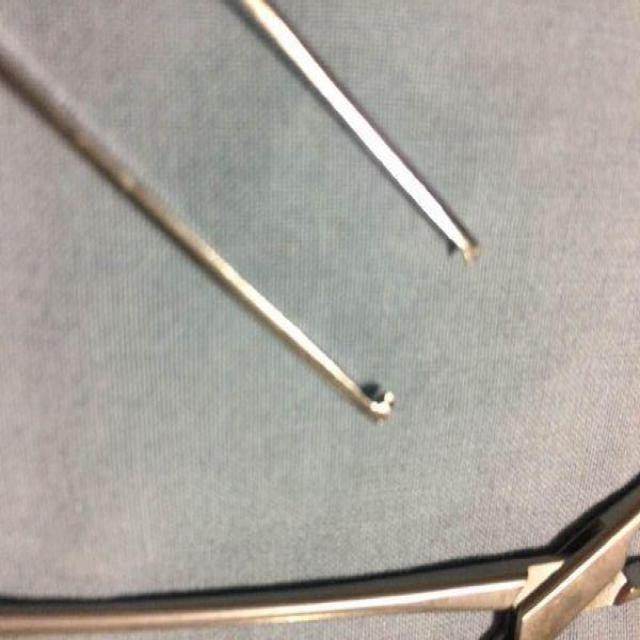Forceps: (0, 0, 481, 431)
Hemostat: (0, 474, 638, 640)
